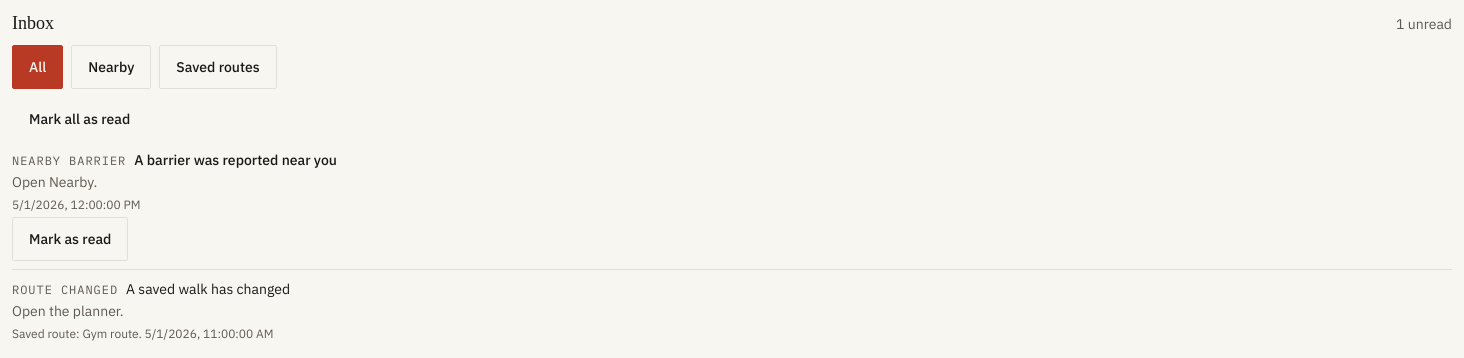
Test: inbox filters › shows only nearby alerts under Nearby, and only saved-route alerts under Saved routes
This screenshot has width=1464, height=358.
What coordinates should you click on to do the following:
click the button "Nearby"
I would click on:
 (111, 67)
Its box is [71, 45, 151, 89].
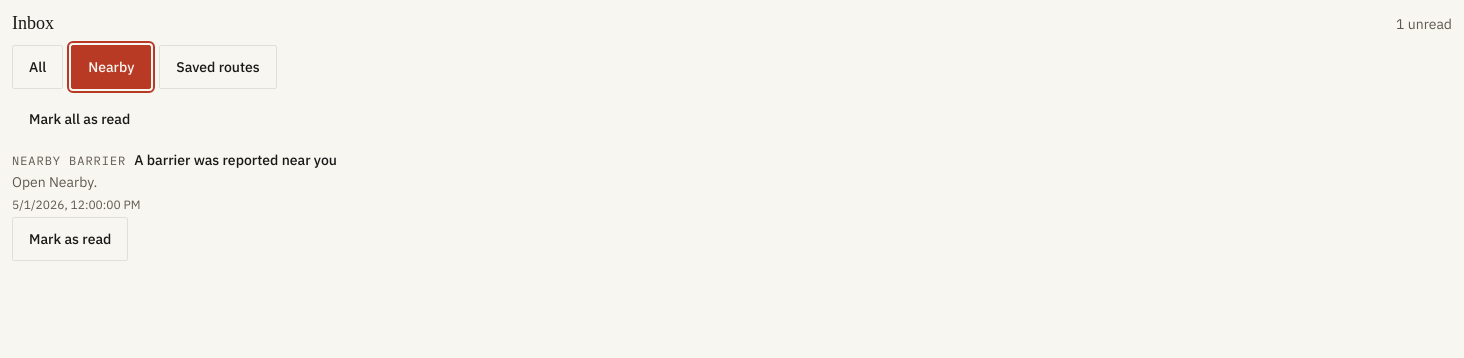
Expected: the text "A barrier was reported near you" is shown, [134, 151, 337, 169]
Result: the text "A saved walk has changed" is gone
What coordinates should you click on to do the following:
click the button "Saved routes"
I would click on:
 (218, 67)
Its box is [159, 45, 277, 89].
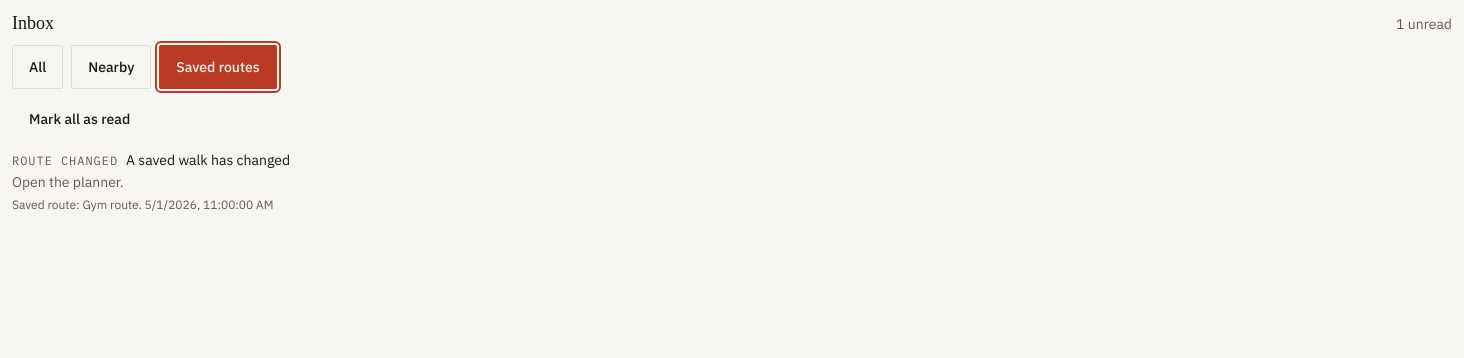
Result: the text "A barrier was reported near you" is gone
Result: the text "A saved walk has changed" is shown at [126, 151, 290, 169]
